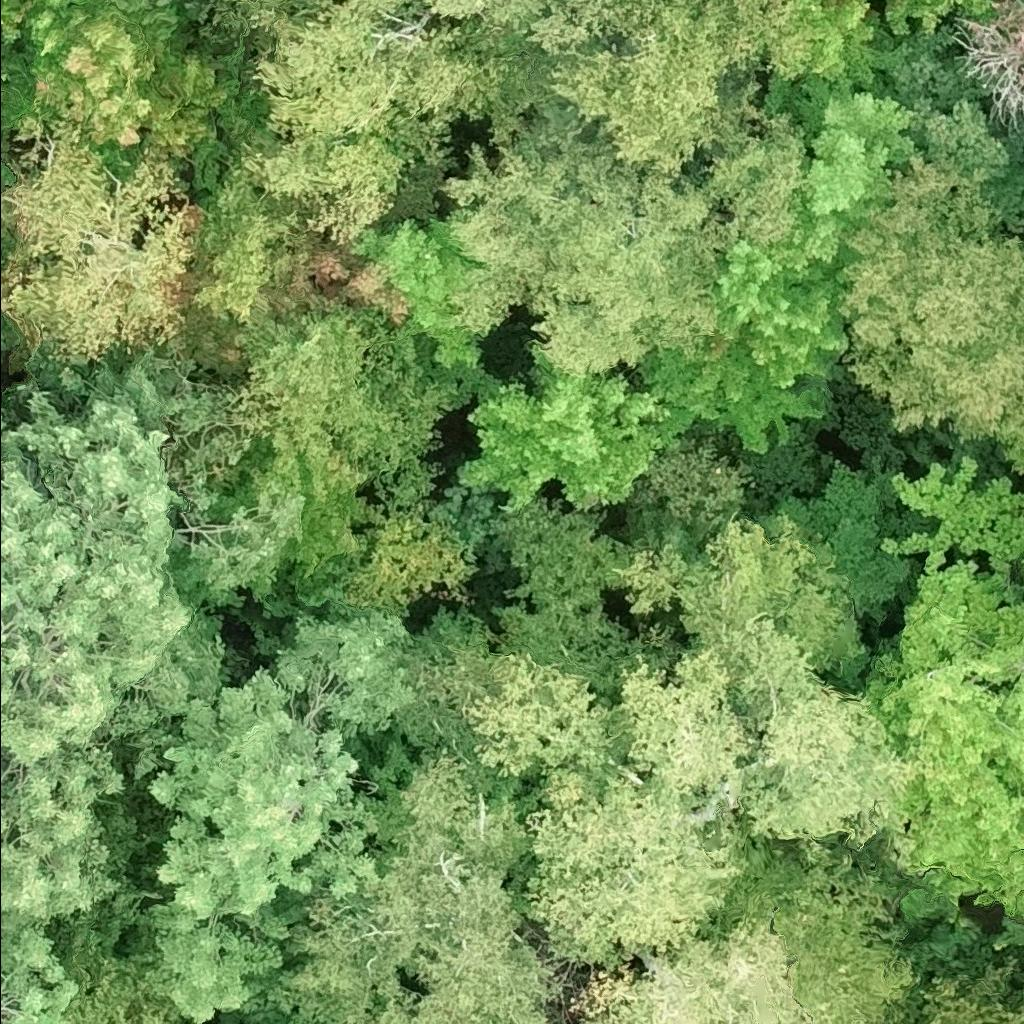crown: (0, 353, 292, 928), (151, 605, 410, 1016), (447, 109, 824, 376), (446, 648, 740, 967), (614, 520, 901, 839), (248, 0, 570, 242), (861, 459, 1023, 920), (279, 768, 561, 1023), (759, 0, 1023, 235), (719, 97, 914, 382), (832, 156, 1023, 444), (523, 0, 825, 180), (656, 842, 939, 1023), (0, 129, 190, 386), (0, 0, 242, 182), (451, 351, 693, 511), (764, 458, 930, 680), (318, 211, 496, 380), (634, 329, 828, 449), (576, 925, 813, 1023), (961, 0, 1023, 149), (0, 917, 81, 1023), (56, 959, 183, 1023), (912, 959, 1023, 1023), (884, 0, 994, 37), (430, 0, 554, 29), (0, 0, 27, 51), (583, 0, 600, 3)
